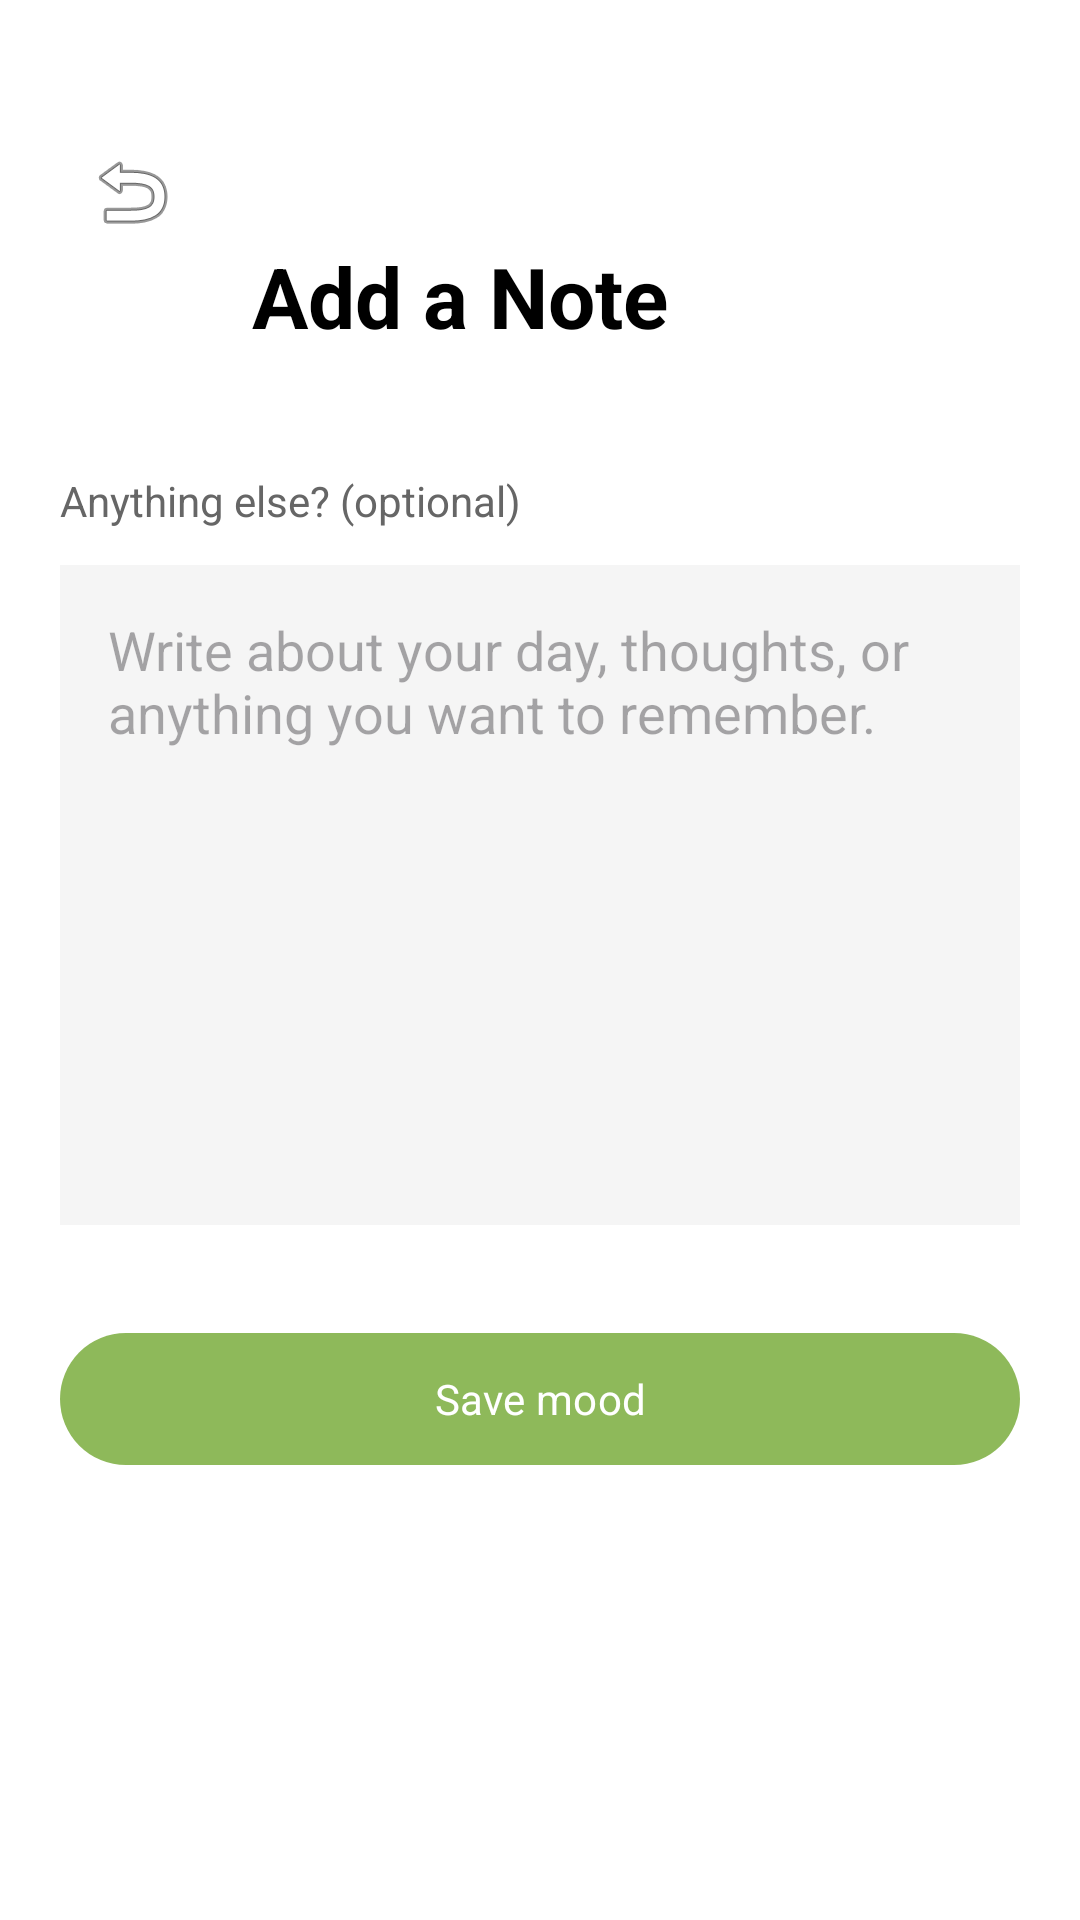

Screen size 1080x1920. Icon name, then its center in pixels as (x=x, y=y):
revert: (x=133, y=192)
